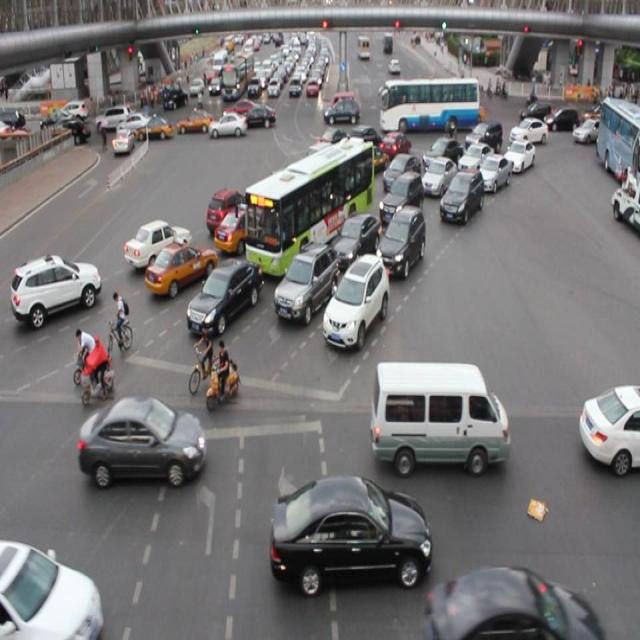car: (270, 474, 431, 590), (422, 564, 602, 640), (78, 392, 204, 487), (1, 540, 102, 640), (322, 253, 389, 347), (12, 253, 101, 322), (186, 257, 262, 334), (576, 382, 640, 469), (273, 244, 338, 322), (143, 238, 218, 296), (123, 220, 191, 271), (376, 206, 425, 272), (212, 204, 274, 255), (329, 212, 378, 270), (274, 192, 330, 242), (206, 188, 259, 236), (438, 168, 482, 225), (378, 171, 423, 225), (262, 169, 317, 210), (319, 164, 365, 205), (420, 137, 461, 177), (382, 153, 419, 195), (457, 143, 494, 184), (464, 121, 500, 160), (422, 157, 456, 197), (346, 126, 381, 162), (352, 144, 389, 178), (475, 154, 508, 192), (502, 137, 534, 172), (378, 129, 410, 164), (316, 128, 350, 160)
truck: (371, 361, 508, 470), (303, 142, 347, 184)
van: (245, 142, 375, 276)
